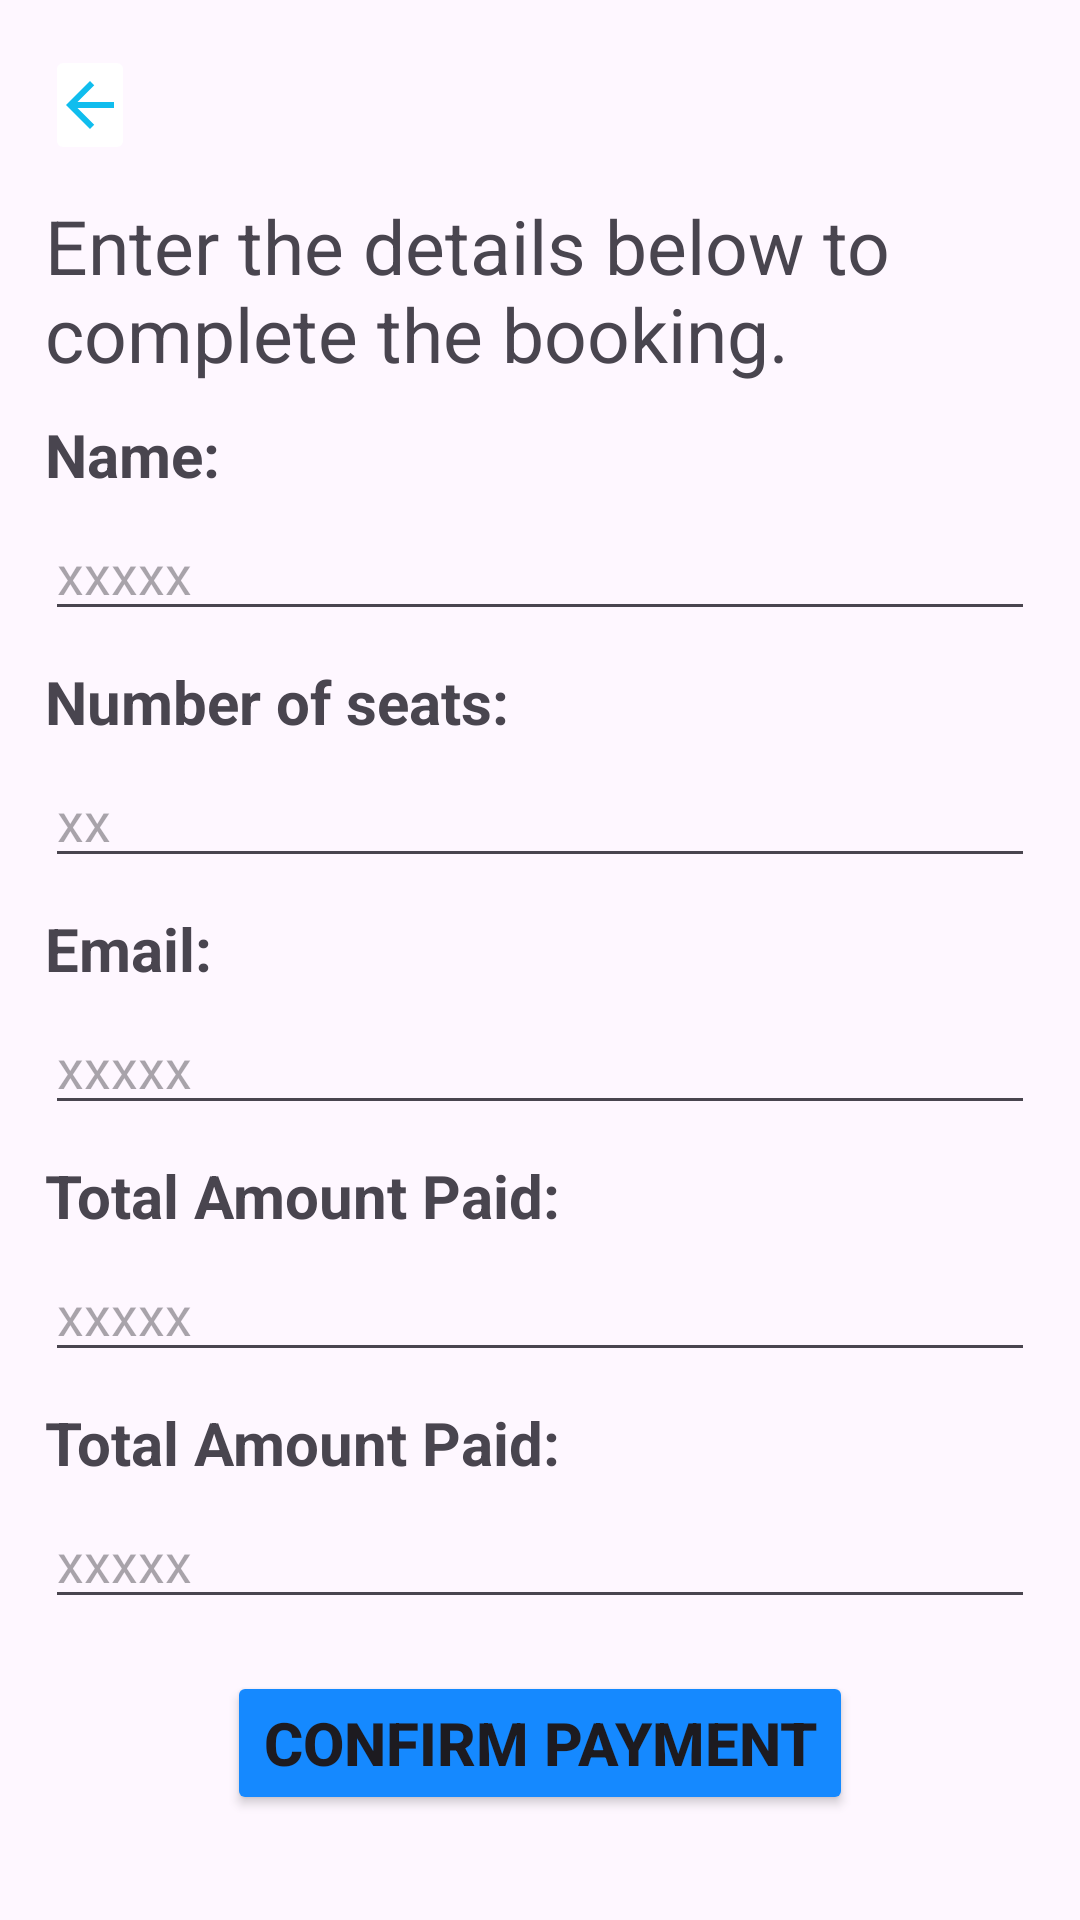

Icons on this 1080×1920 Android screen, each with its box as bbox=[x1, y1, x2, y2]:
arrow back: bbox=[66, 81, 114, 129]
